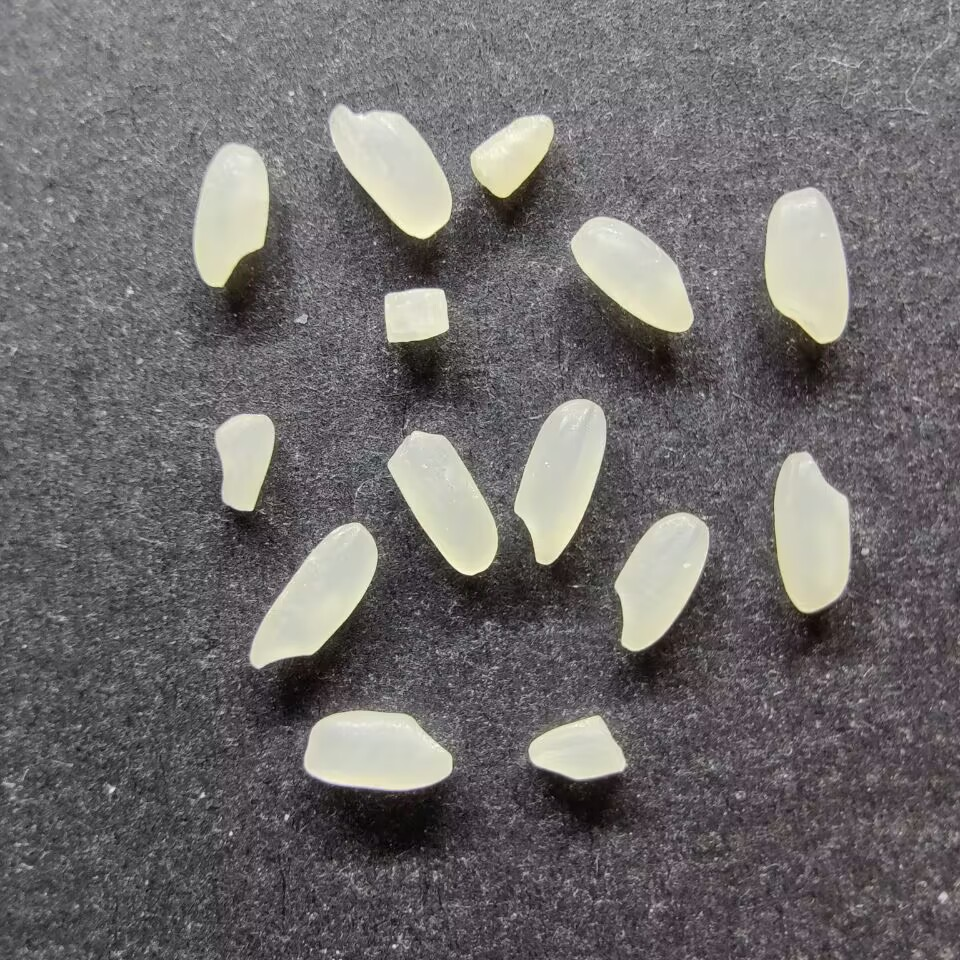broken: (468, 113, 554, 199), (527, 714, 626, 780), (213, 413, 275, 512), (383, 287, 449, 343)
rice: (247, 520, 378, 670), (328, 104, 452, 239), (386, 430, 498, 576), (512, 397, 607, 565), (570, 215, 695, 333), (613, 511, 710, 651), (764, 187, 850, 344), (773, 451, 851, 613), (303, 709, 453, 792), (192, 144, 268, 289)
